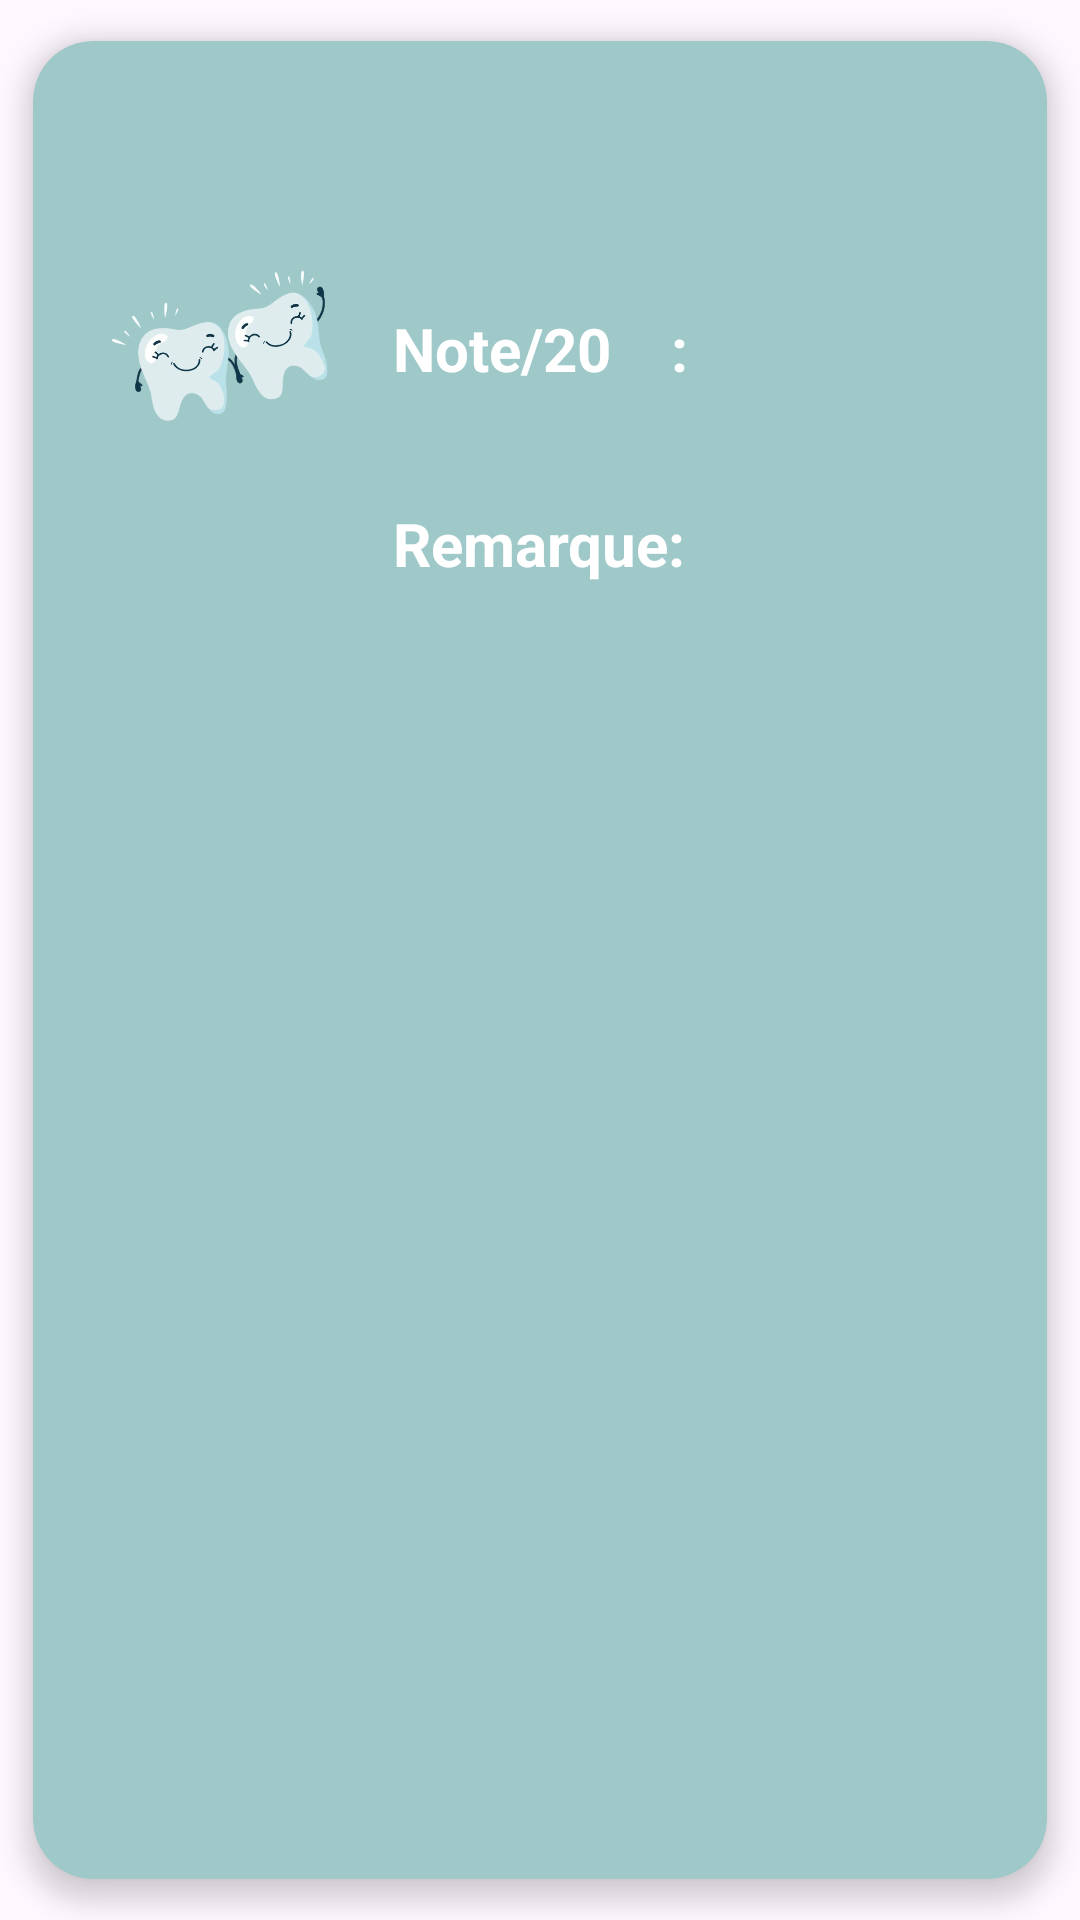

Icon click points for this 1080x1920 phone screenshot, format point (x, y):
dent: point (219, 346)
